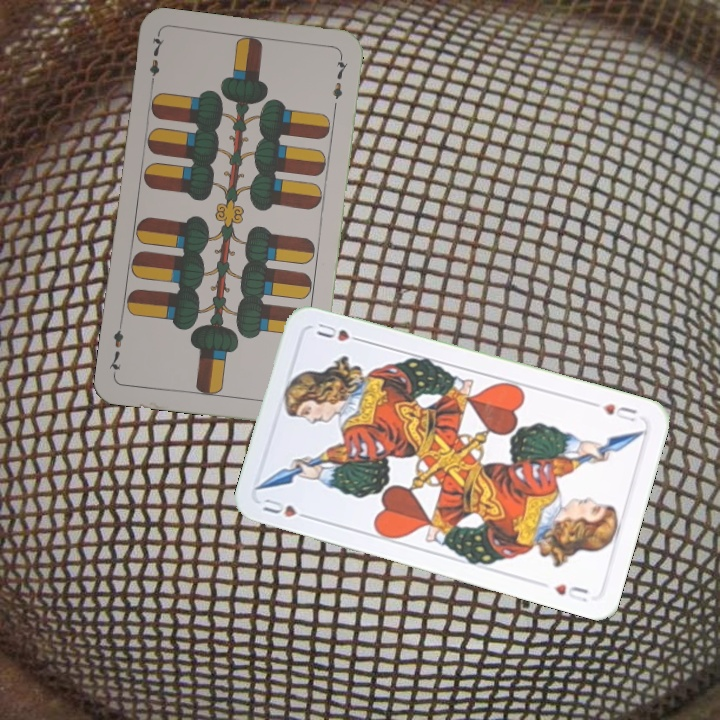E7: (145, 31, 166, 91)
HU: (258, 493, 315, 522), (598, 399, 640, 425)
